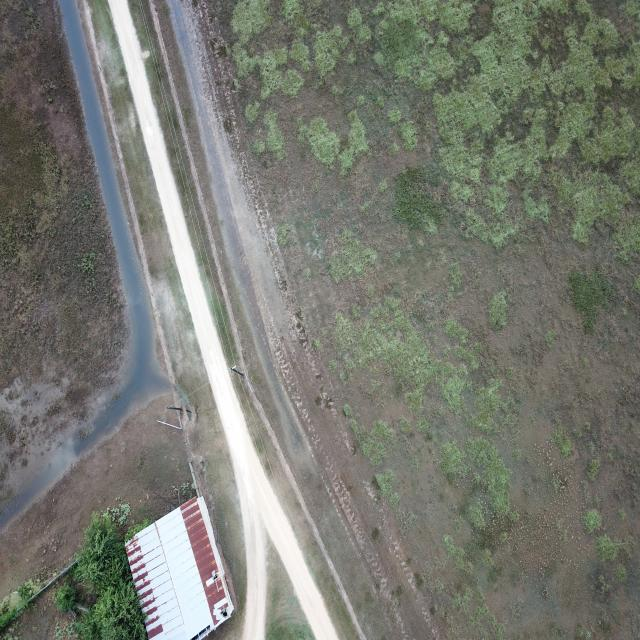fire: (0, 0, 171, 531)
